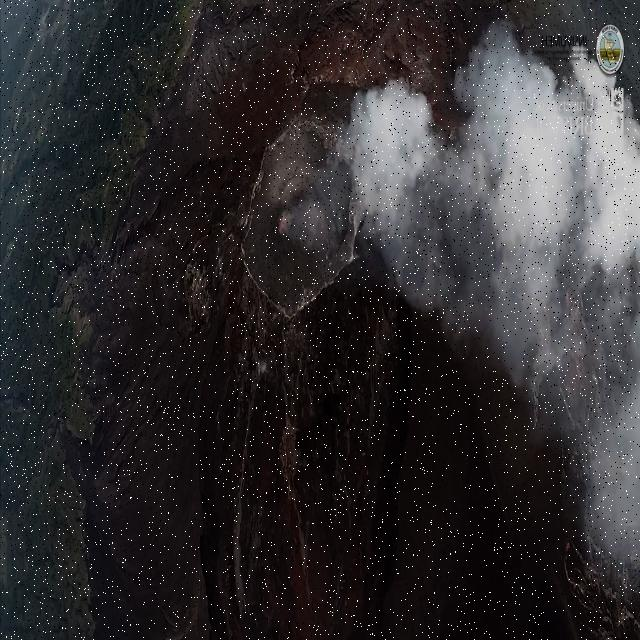Plume: (325, 31, 639, 601)
Summit: (234, 109, 360, 330)
